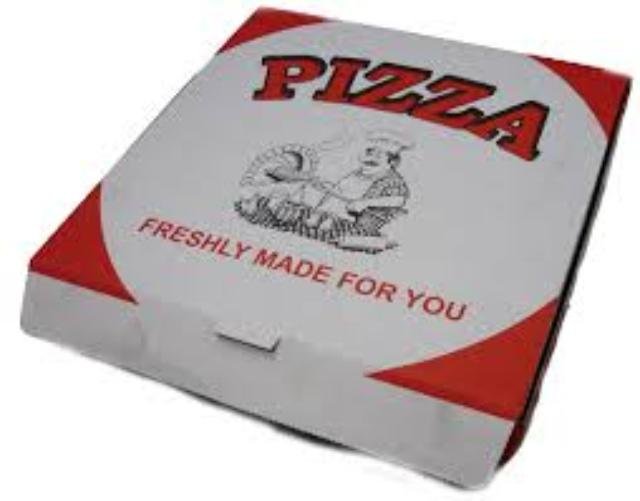cardboard paper: (15, 0, 630, 489)
